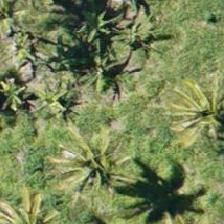coconut_tree: (46, 116, 136, 206), (152, 65, 223, 155)
